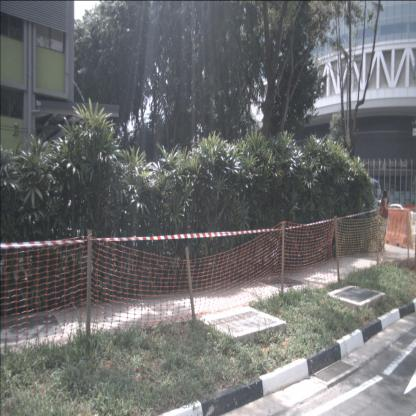barrier: (384, 208, 413, 249), (408, 207, 412, 212), (411, 208, 415, 212)
